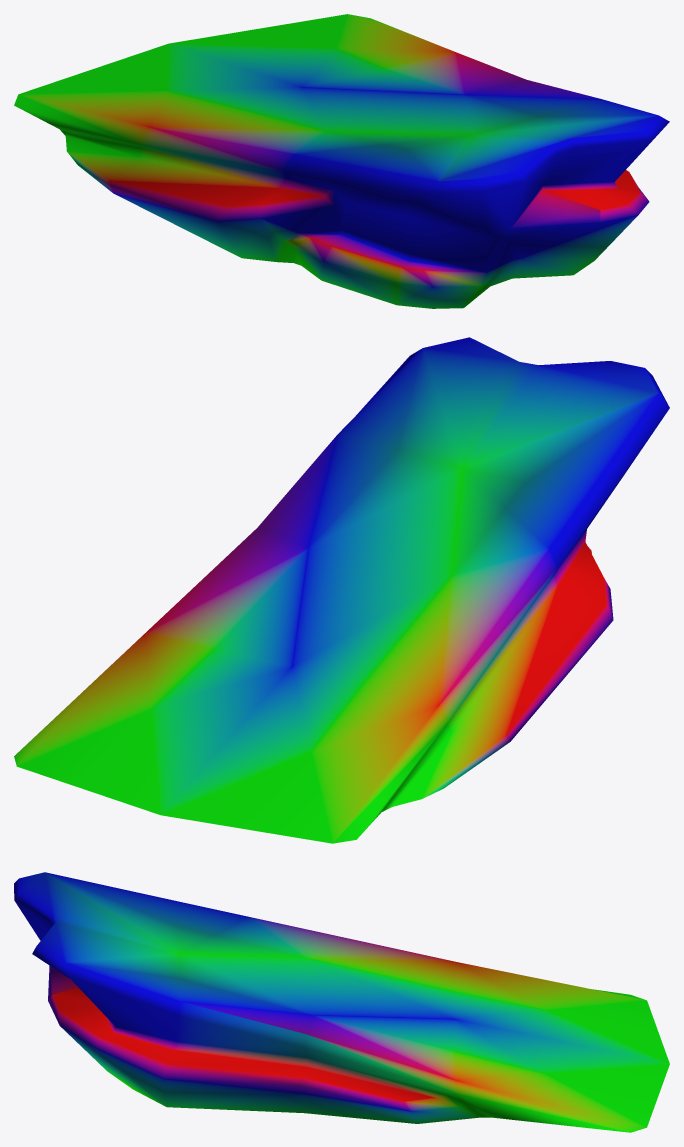
The model's file is M_Rock_Cliff_Big_C.FBX.
The picture shows the model from 3 angles, top to bottom: view 1: azimuth 30°, elevation 25°; view 2: azimuth 150°, elevation 25°; view 3: azimuth 270°, elevation 25°; orthographic projection. The views are drawn at different scales.
Visible parts, largest first — view 1: Rock_Cliff_Big_C; view 2: Rock_Cliff_Big_C; view 3: Rock_Cliff_Big_C.
Boxes of the visible parts, left/top/right/bottom form: Rock_Cliff_Big_C: left=14, top=14, right=669, bottom=308; Rock_Cliff_Big_C: left=14, top=337, right=669, bottom=843; Rock_Cliff_Big_C: left=14, top=872, right=669, bottom=1132.
Bounding box in the file's own units: 752 × 348 × 1385.
